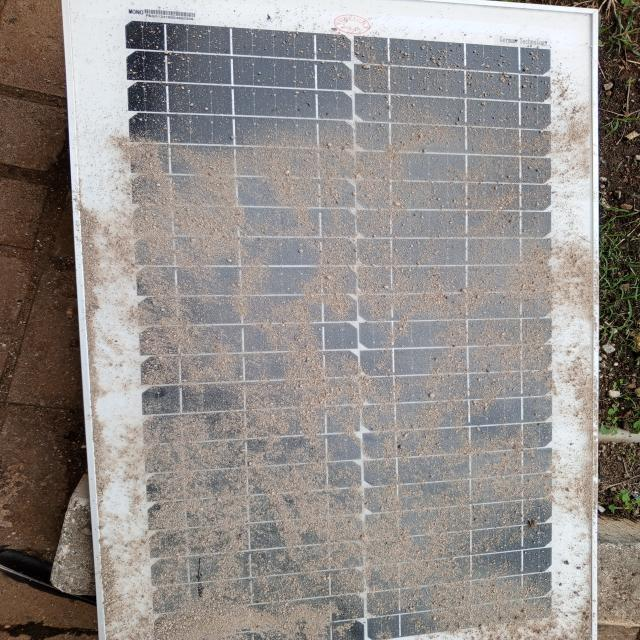Anomaly Solar Panel: (82, 11, 568, 635)
Surface Contaminant: (106, 57, 576, 639)
